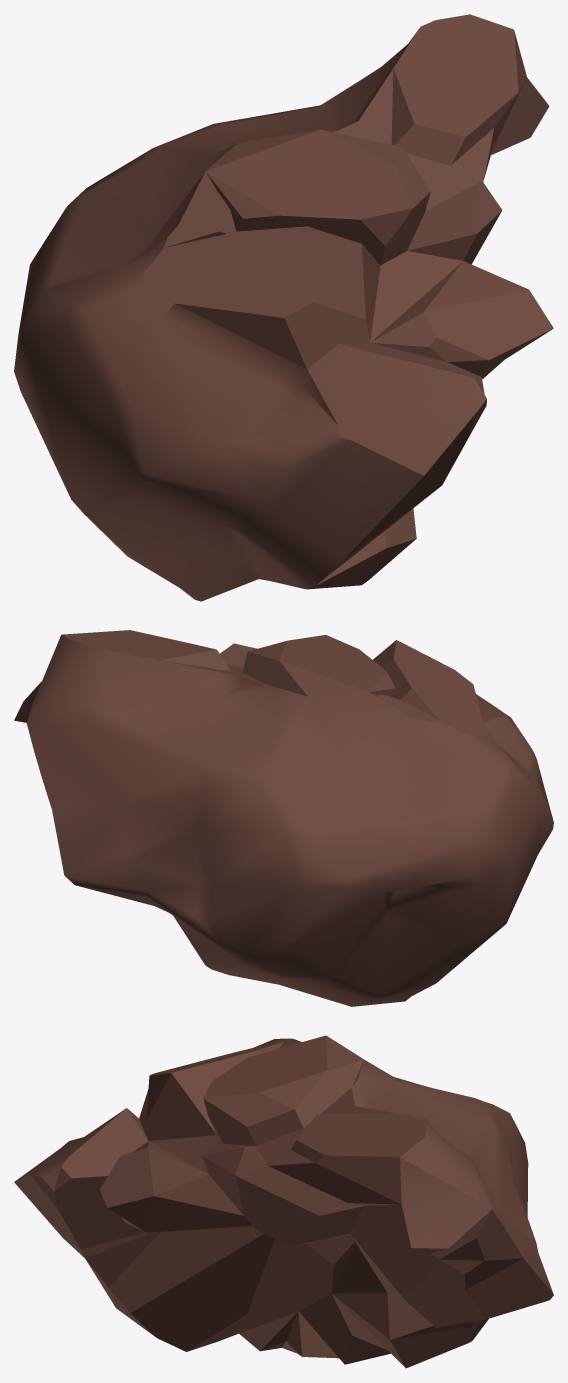
File: p_mesh_hvs_stalagmite_medium_destruction_part04.fbx
3 views of the same model, one above another, from view 1: azimuth 30°, elevation 25°; view 2: azimuth 150°, elevation 25°; view 3: azimuth 270°, elevation 25° (orthographic). The views are drawn at different scales.
Visible parts, largest first — view 1: p_medium_part4; view 2: p_medium_part4; view 3: p_medium_part4.
Boxes of the visible parts, x1,y1,x2,y2 form: p_medium_part4: (14,14,553,601); p_medium_part4: (14,630,553,1006); p_medium_part4: (14,1035,553,1368).
Bounding box in the file's own units: 5.58 × 4.12 × 5.65.
